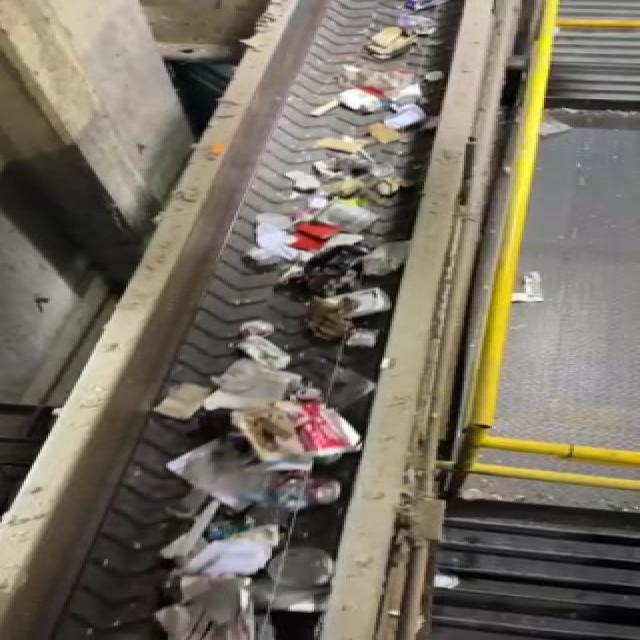ps: (223, 394, 362, 472)
